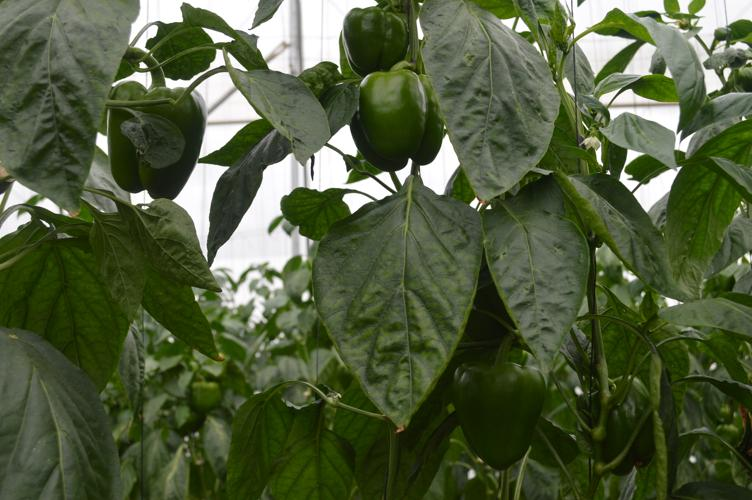BellPepper: (98, 79, 209, 209), (444, 353, 541, 477), (349, 70, 450, 173), (578, 376, 659, 482), (339, 4, 415, 69), (181, 376, 227, 416)
